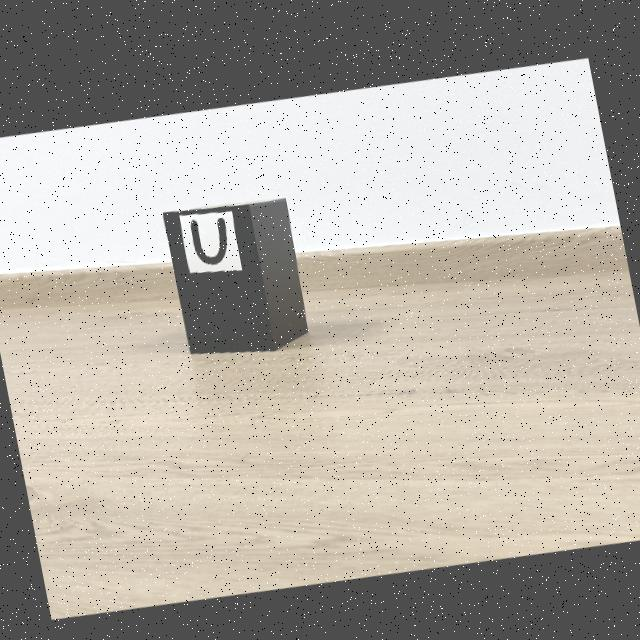U: (190, 215, 228, 262)
